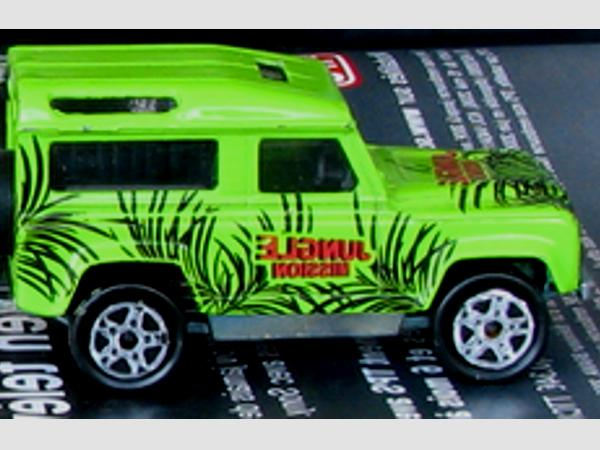toy-car: (0, 41, 584, 394)
